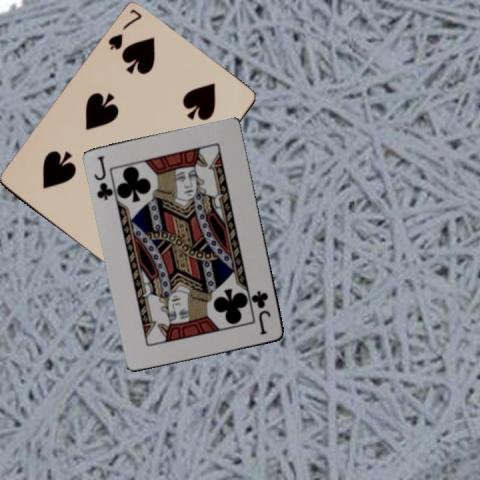7s: (106, 7, 144, 52)
Jc: (92, 153, 116, 202), (250, 287, 272, 337)
